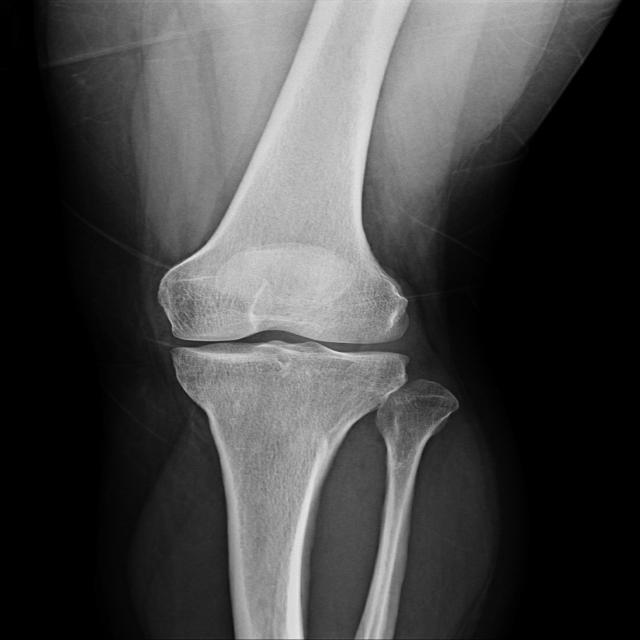osteo: (152, 262, 412, 389)
